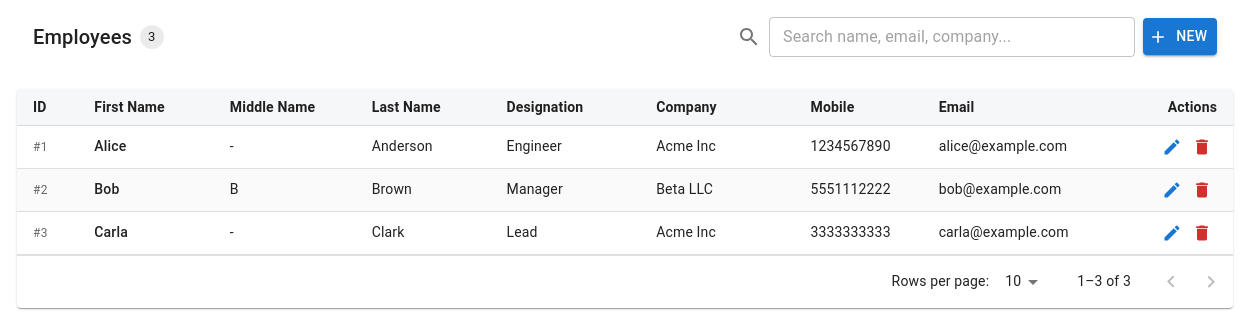
IndexEmployee › shows empty state when no match
Check: the text "Alice" is shown, box [94,138,126,154]
In the field with placeholder "Search name, email, company...": (952, 36) [769,16,1135,56], type "zzzzzz"
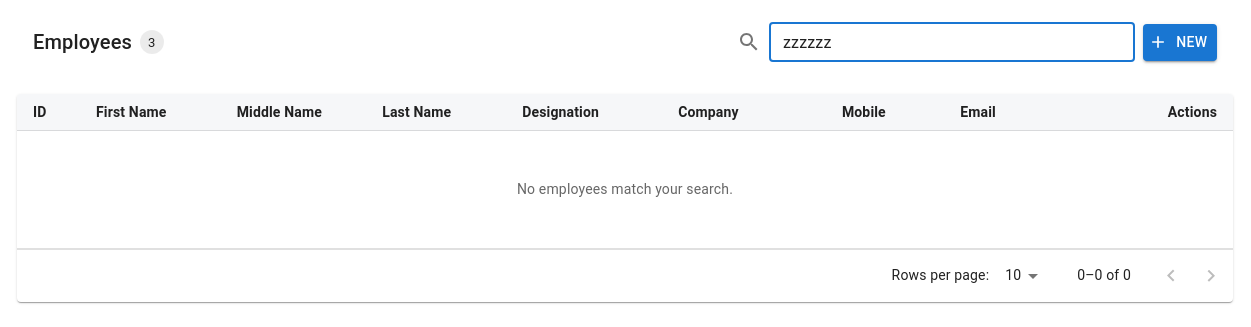
Check: the text "No employees match your search." is shown, box [517,182,733,198]
